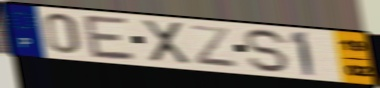0: (42, 11, 84, 57)
1: (287, 30, 317, 78)
E: (81, 14, 139, 63)
S: (243, 27, 293, 74)
X: (139, 18, 194, 66)
Z: (188, 23, 240, 70)
